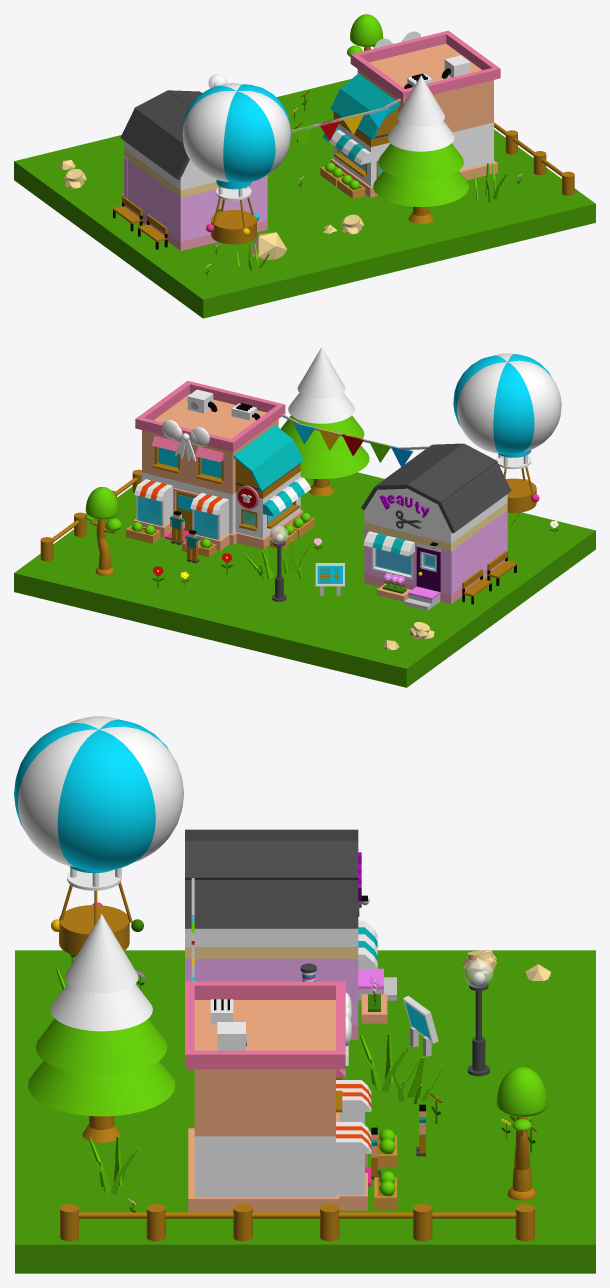
The model's file is magic_house.glb.
The picture shows the model from 3 angles, top to bottom: view 1: azimuth 30°, elevation 25°; view 2: azimuth 150°, elevation 25°; view 3: azimuth 270°, elevation 25°; orthographic projection. The views are drawn at different scales.
Visible parts, largest first — view 1: box (×18), sphere (×3), cone (×4), cylinder, hemisphere, icosahedron; view 2: box (×29), sphere (×4), cone (×4), cylinder, hemisphere; view 3: box (×16), sphere (×4), cone (×4), cylinder (×3), hemisphere.
Part boxes in pixels (box(x1,y1,x2,y2)): box (×18): box(14, 30, 595, 318); sphere (×3): box(182, 91, 290, 182); cone (×4): box(373, 75, 468, 206); cylinder: box(211, 210, 256, 244); hemisphere: box(350, 14, 383, 44); icosahedron: box(248, 232, 287, 259); box (×29): box(14, 380, 595, 687); sphere (×4): box(453, 355, 561, 454); cone (×4): box(281, 347, 369, 478); cylinder: box(506, 478, 536, 512); hemisphere: box(85, 487, 118, 517); box (×16): box(15, 829, 595, 1273); sphere (×4): box(14, 723, 183, 871); cone (×4): box(28, 914, 175, 1116); cylinder (×3): box(59, 869, 516, 1218); hemisphere: box(496, 1067, 547, 1114).
Bounding box in the file's own units: 217 × 102 × 181.
